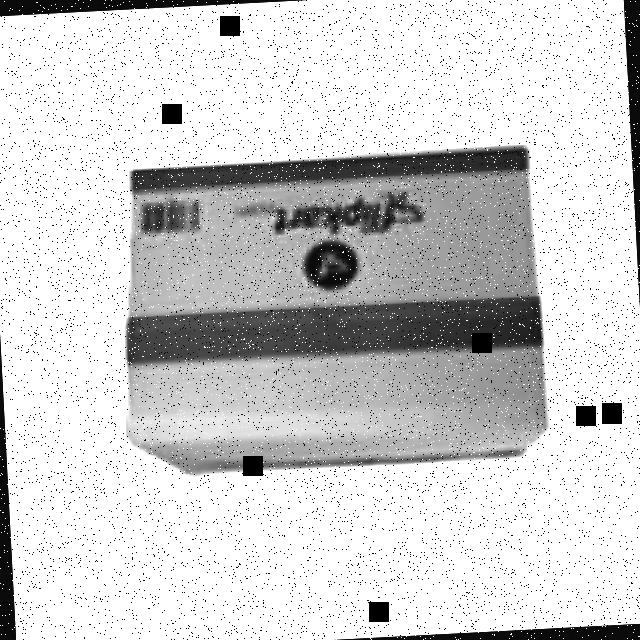cardboard_box: (108, 141, 570, 487)
